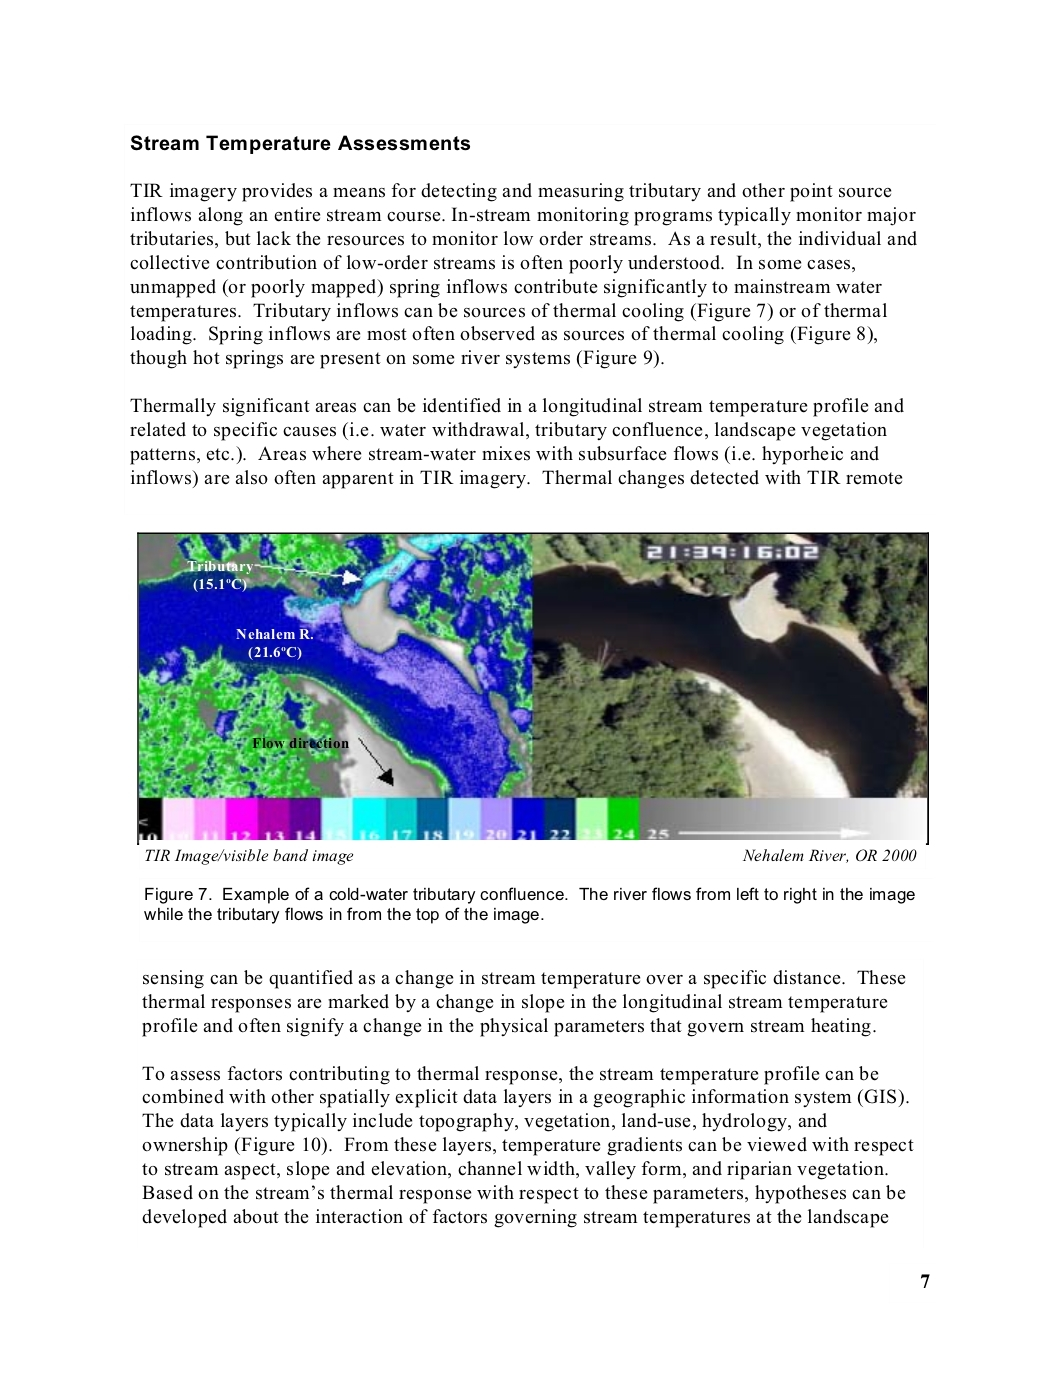figure: (137, 530, 928, 845)
